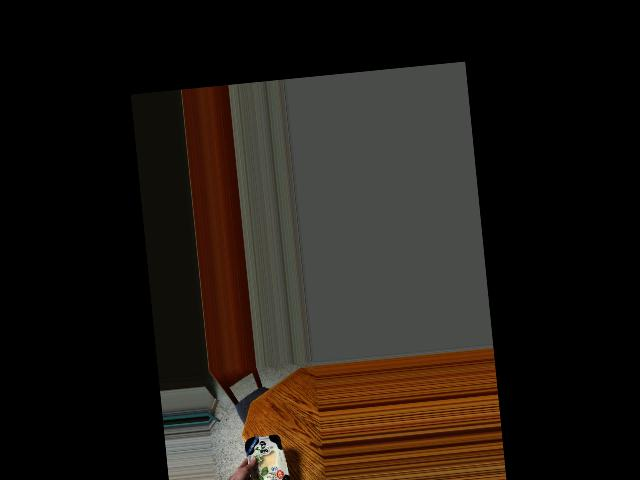cheese: (240, 427, 284, 480)
